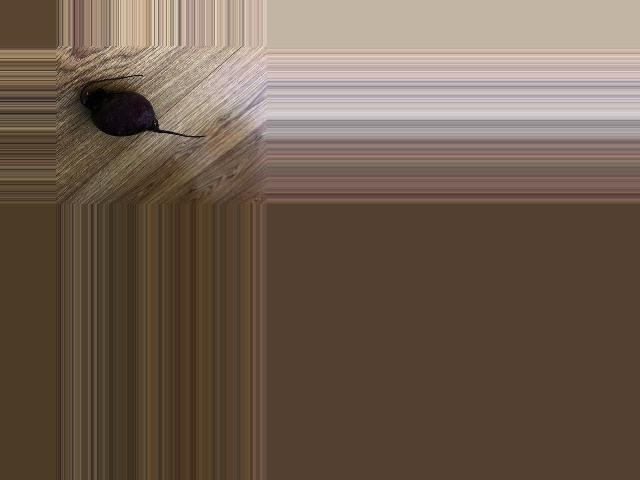beet: (80, 75, 206, 138)
